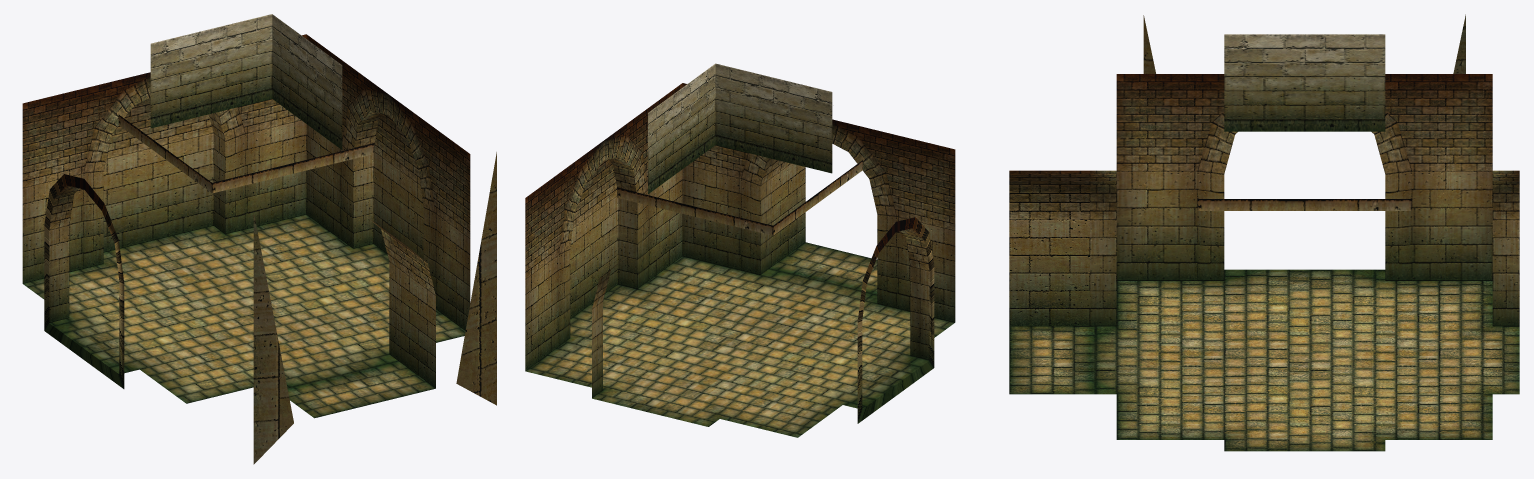
Rendered from Mission12_CatacombExit.glb.
The picture shows the model from 3 angles, left to right: view 1: azimuth 30°, elevation 25°; view 2: azimuth 150°, elevation 25°; view 3: azimuth 270°, elevation 25°; orthographic projection. The views are drawn at different scales.
Parts seen in each view (by area): view 1: MISSION12_CATACOMBEXIT; view 2: MISSION12_CATACOMBEXIT; view 3: MISSION12_CATACOMBEXIT.
Boxes of the visible parts, x1,y1,x2,y2 form: MISSION12_CATACOMBEXIT: [22, 14, 496, 464]; MISSION12_CATACOMBEXIT: [525, 63, 955, 437]; MISSION12_CATACOMBEXIT: [1009, 14, 1519, 451].
Bounding box in the file's own units: 8 × 6.75 × 9.5.
4 materials, 4 textured.
